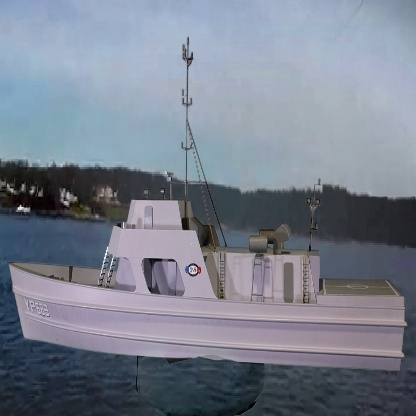YP689: (9, 39, 408, 377)
